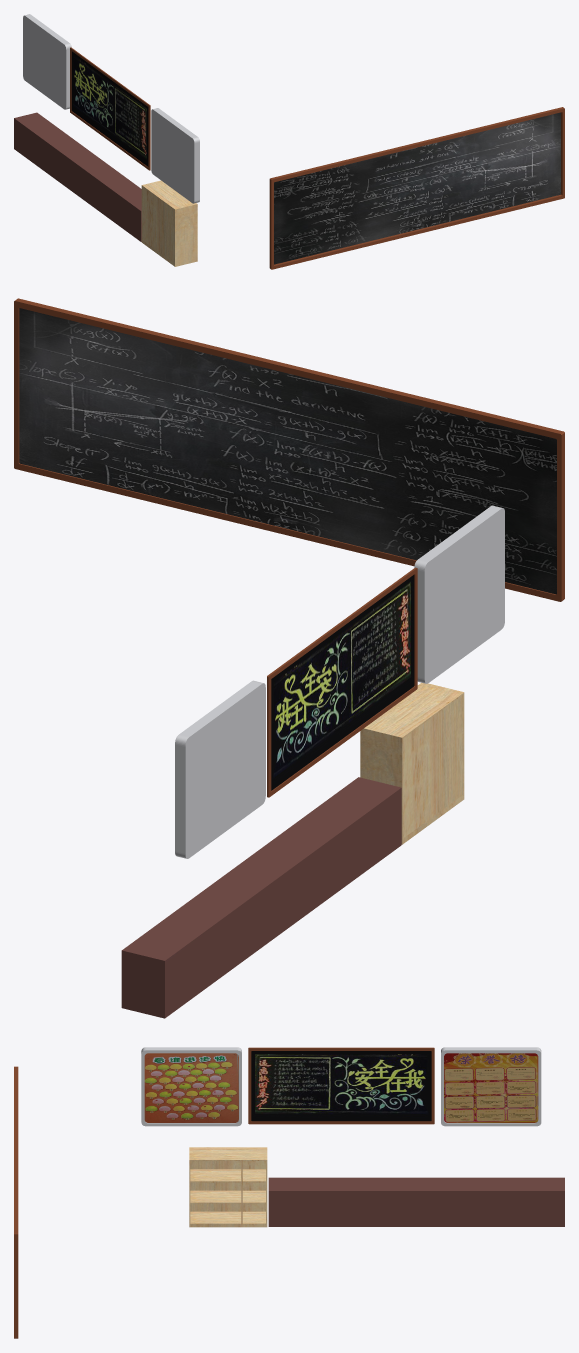
Rendered from heiban01.fbx.
3 views of the same model, one above another, from view 1: azimuth 30°, elevation 25°; view 2: azimuth 150°, elevation 25°; view 3: azimuth 270°, elevation 25° (orthographic). The views are drawn at different scales.
Parts seen in each view (by area): view 1: polySurface89, polySurface83, polySurface80, polySurface82, polySurface79, polySurface74, polySurface73, polySurface76; view 2: polySurface89, polySurface83, polySurface80, polySurface79, polySurface82, polySurface73, polySurface74, polySurface76; view 3: polySurface83, polySurface80, polySurface78, polySurface81, polySurface74, polySurface76, polySurface73, polySurface82, polySurface79, polySurface89.
Boxes of the visible parts, x1=… form: polySurface89: x1=269, y1=107, x2=564, y2=269; polySurface83: x1=14, y1=112, x2=141, y2=241; polySurface80: x1=71, y1=51, x2=148, y2=166; polySurface82: x1=151, y1=108, x2=199, y2=203; polySurface79: x1=23, y1=14, x2=71, y2=109; polySurface74: x1=141, y1=180, x2=197, y2=266; polySurface73: x1=142, y1=186, x2=174, y2=263; polySurface76: x1=70, y1=47, x2=150, y2=170; polySurface89: x1=14, y1=298, x2=564, y2=601; polySurface83: x1=121, y1=777, x2=401, y2=1018; polySurface80: x1=271, y1=575, x2=414, y2=790; polySurface79: x1=175, y1=680, x2=265, y2=858; polySurface82: x1=414, y1=505, x2=504, y2=683; polySurface73: x1=403, y1=694, x2=463, y2=837; polySurface74: x1=360, y1=682, x2=464, y2=844; polySurface76: x1=267, y1=567, x2=417, y2=797; polySurface83: x1=268, y1=1177, x2=564, y2=1226; polySurface80: x1=251, y1=1051, x2=431, y2=1121; polySurface78: x1=444, y1=1053, x2=538, y2=1122; polySurface81: x1=144, y1=1053, x2=238, y2=1122; polySurface74: x1=189, y1=1147, x2=267, y2=1227; polySurface76: x1=248, y1=1047, x2=434, y2=1124; polySurface73: x1=190, y1=1161, x2=265, y2=1211; polySurface82: x1=141, y1=1047, x2=241, y2=1126; polySurface79: x1=441, y1=1047, x2=541, y2=1126; polySurface89: x1=14, y1=1066, x2=18, y2=1338.
Size of the model in its own units: 547 by 236 by 707.
1 material, 1 textured.
